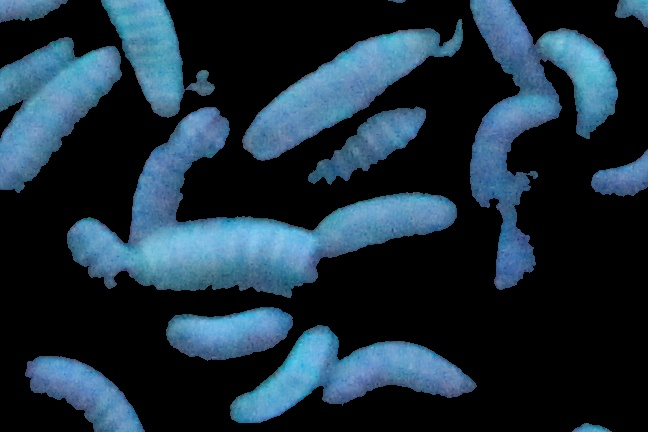larvae: (243, 27, 443, 162), (1, 46, 118, 190), (126, 217, 322, 300), (305, 332, 478, 405), (219, 325, 339, 430), (298, 189, 471, 255), (131, 107, 230, 217), (95, 1, 186, 116), (473, 92, 559, 213), (302, 106, 427, 183), (538, 29, 618, 142), (22, 359, 144, 432), (467, 1, 555, 92), (164, 308, 296, 359), (1, 38, 73, 114), (66, 217, 129, 289), (586, 149, 648, 200)
